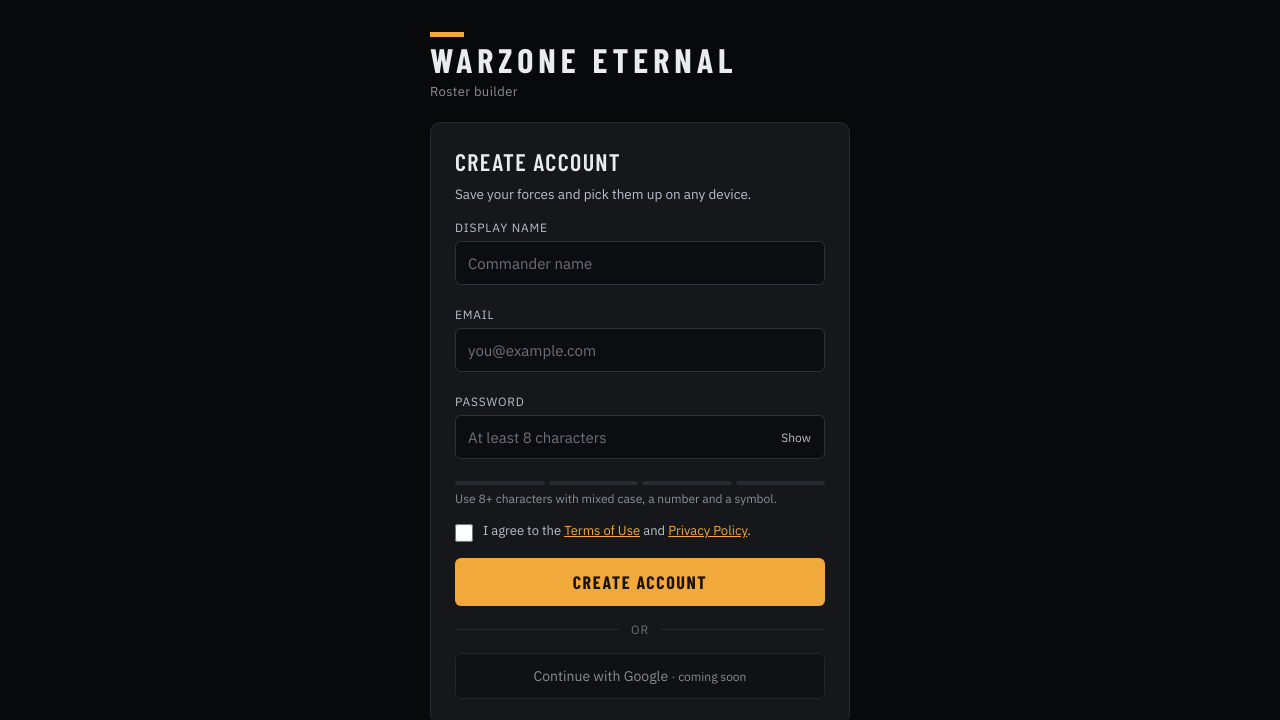
Test case: sign up › creates an account and lands on an empty My Lists
Type "Max Steiner" into the field labelled "Display name" at (640, 263), box [455,241,825,285]
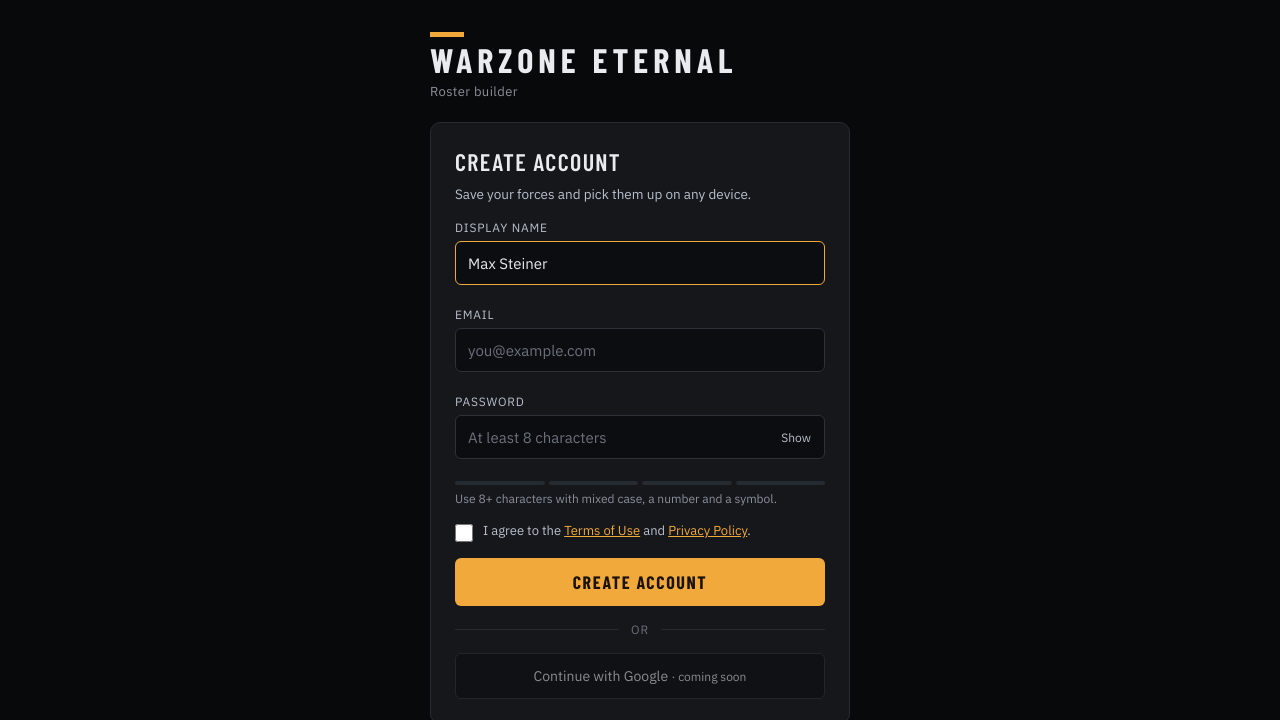
Type "max@example.com" into the field labelled "Email" at (640, 350), box [455,328,825,372]
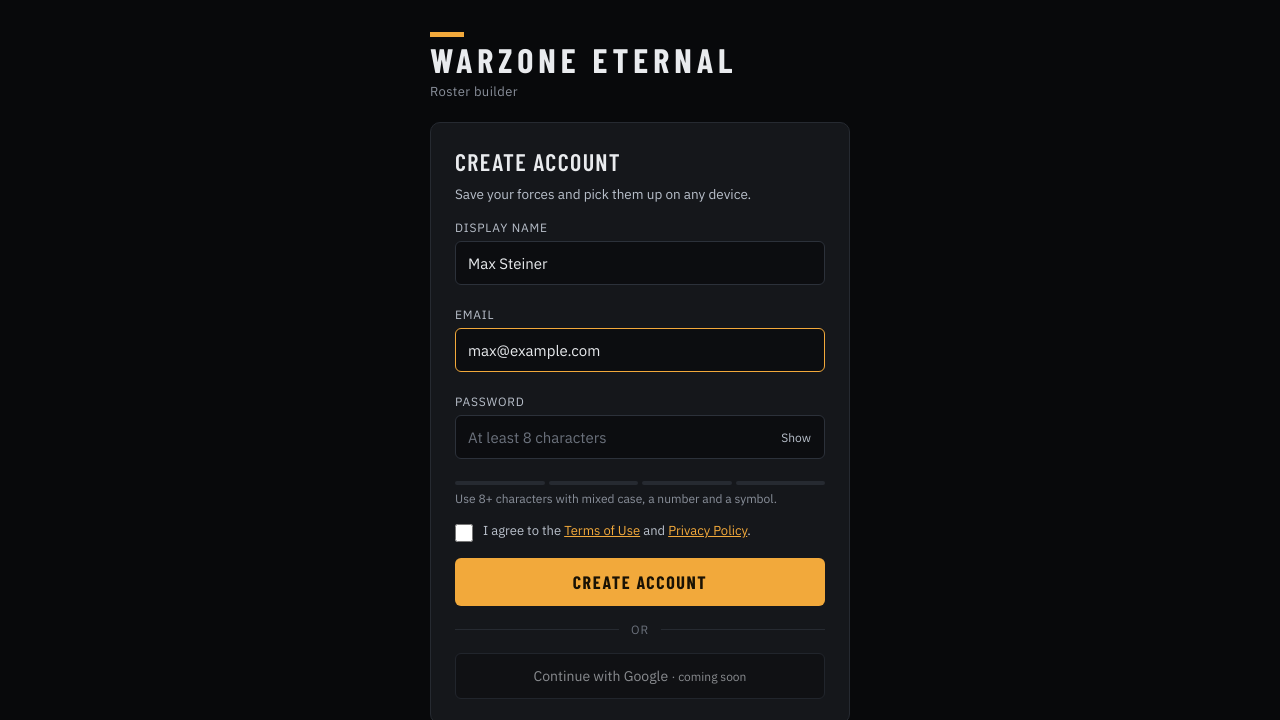
Type "Abcdef1!" into the password field labelled "Password" at (640, 437), box [455,415,825,459]
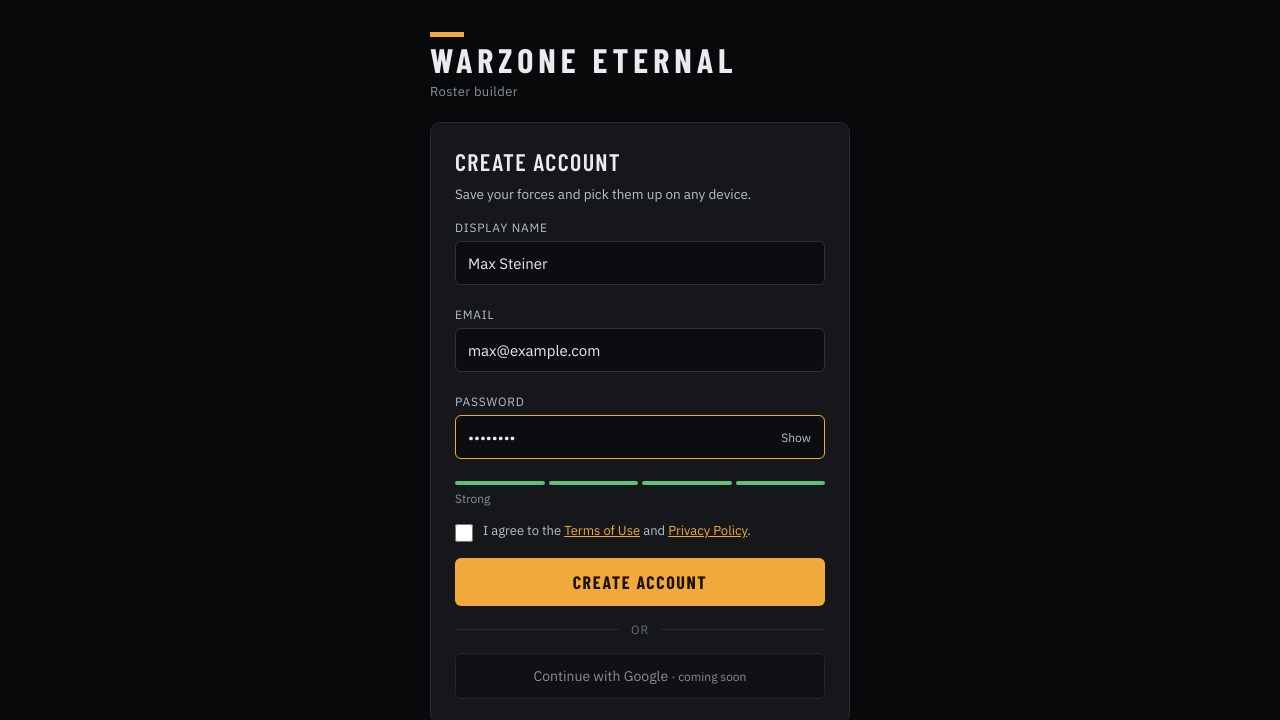
expect the text "Strong" is shown: met, box [455,491,490,506]
Click the checkbox at (464, 533), box [455,524,473,542]
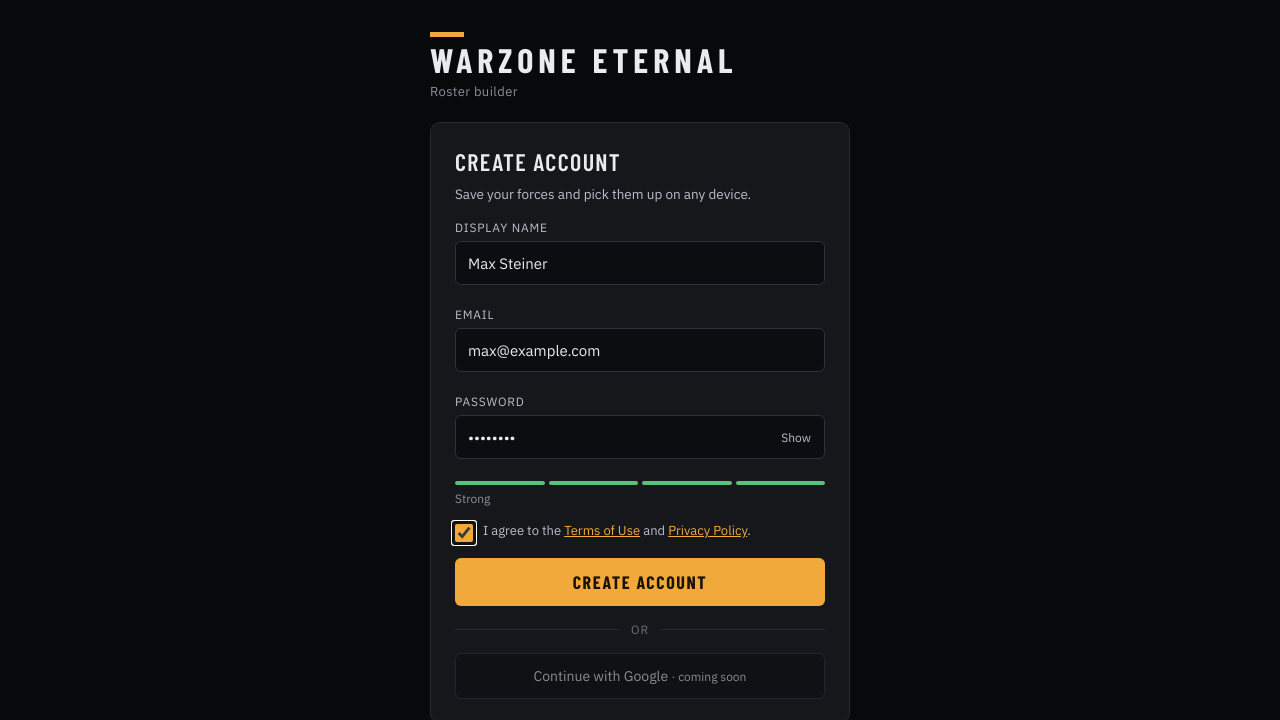
Click the button "Create account" at (640, 582), box [455,558,825,606]
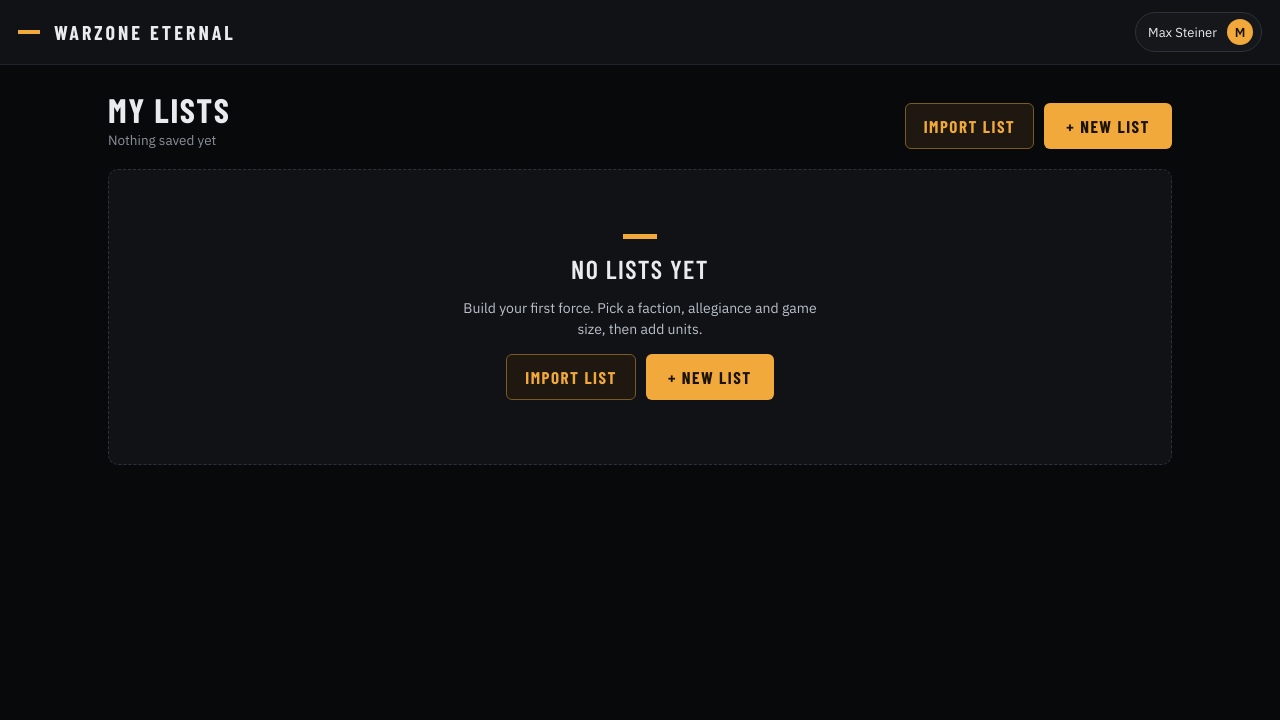
expect the heading "No lists yet" is shown: met, box [571,253,709,284]
expect the text "Max Steiner" is shown: met, box [1148,24,1217,40]
